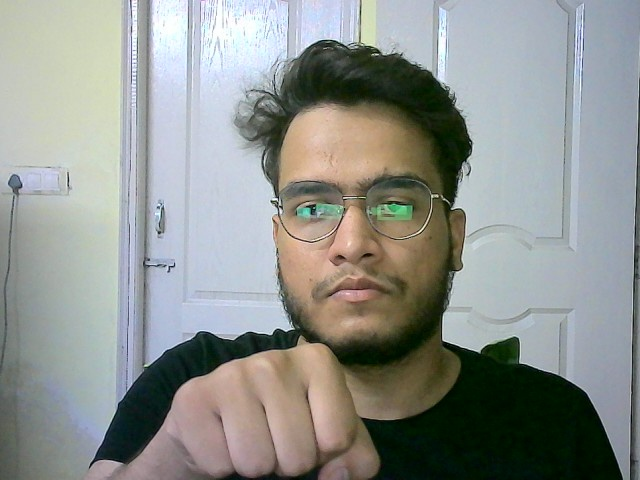Yes: (156, 340, 383, 480)
